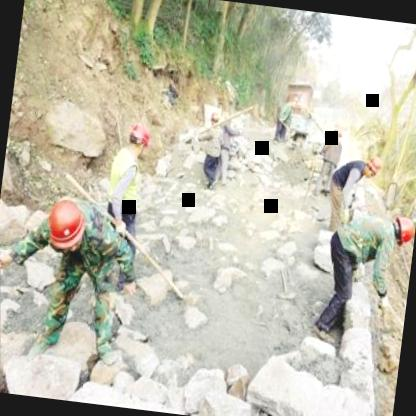helmet: (39, 196, 88, 256), (124, 119, 154, 159), (386, 211, 416, 245), (362, 151, 384, 182)
